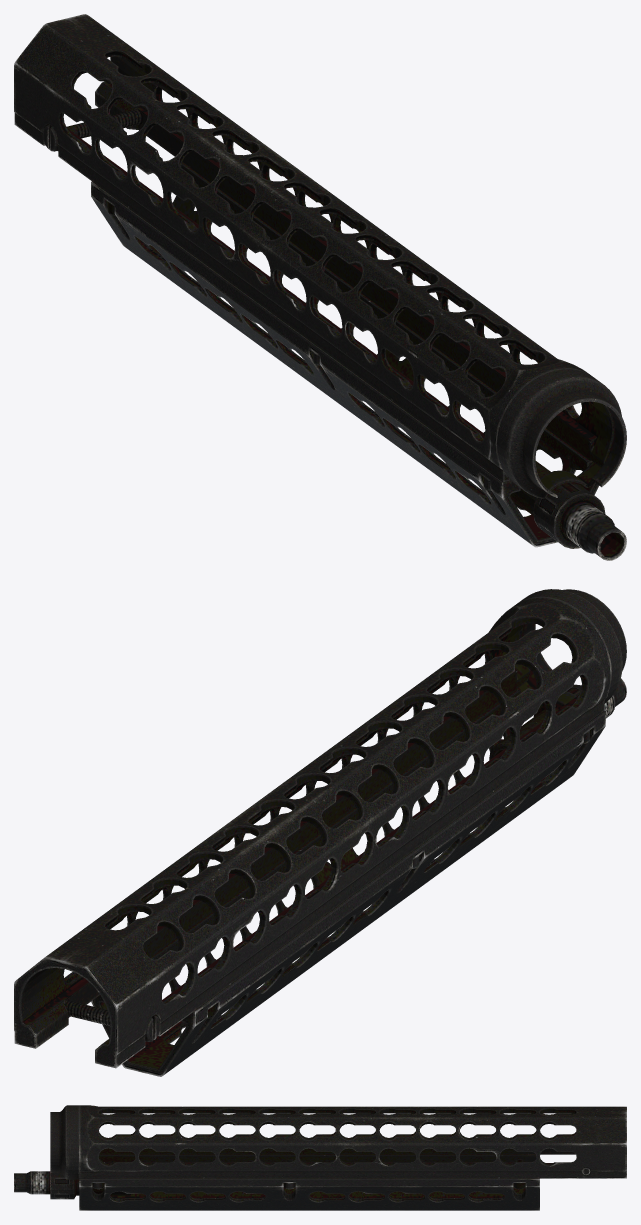
3 views of the same model, one above another, from view 1: azimuth 30°, elevation 25°; view 2: azimuth 150°, elevation 25°; view 3: azimuth 270°, elevation 25° (orthographic). The views are drawn at different scales.
Visible parts, largest first — view 1: TW_5b7be2345acfc400196d524a_PZ_Import; view 2: TW_5b7be2345acfc400196d524a_PZ_Import; view 3: TW_5b7be2345acfc400196d524a_PZ_Import.
Boxes of the visible parts, x1,y1,x2,y2 form: TW_5b7be2345acfc400196d524a_PZ_Import: (14,14,626,560); TW_5b7be2345acfc400196d524a_PZ_Import: (14,589,626,1076); TW_5b7be2345acfc400196d524a_PZ_Import: (14,1105,626,1210).
Bounding box in the file's own units: 0.0227 × 0.1872 × 0.0327.
1 material, 1 textured.
